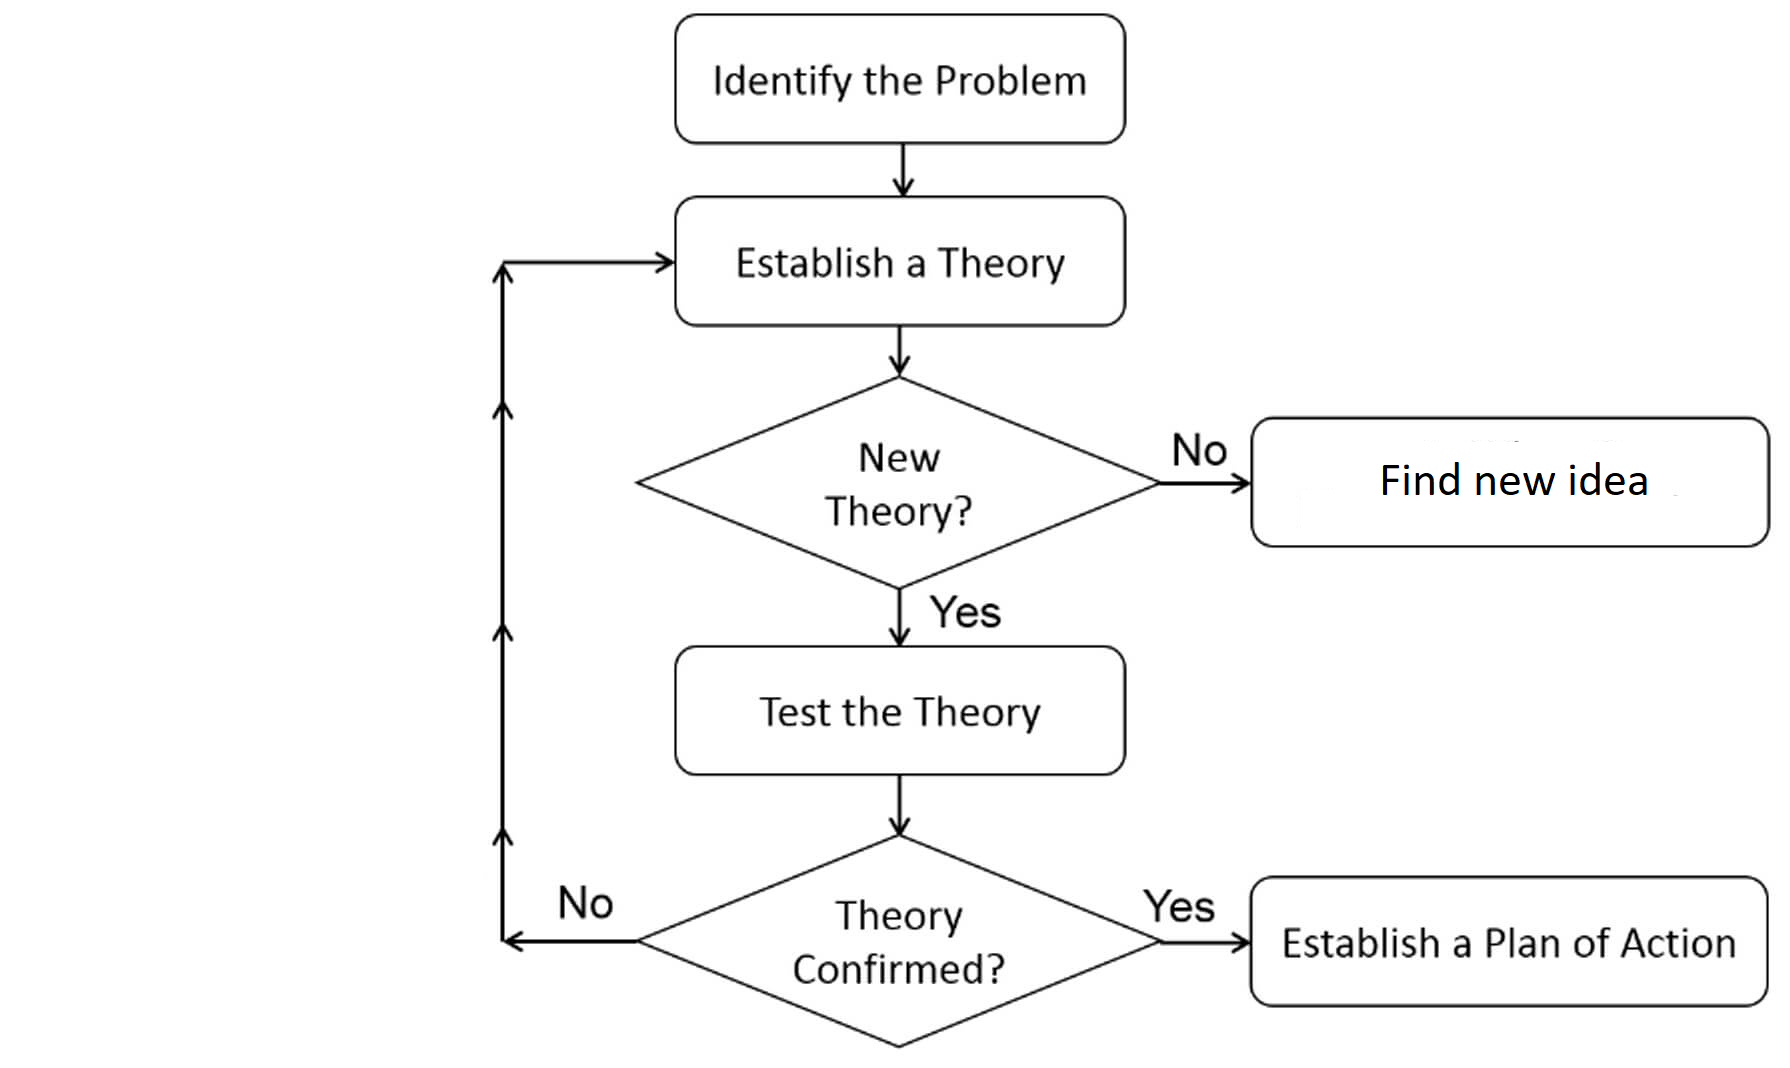arrow: (488, 399, 517, 624), (488, 624, 516, 829), (497, 247, 678, 275), (500, 926, 645, 960), (488, 262, 516, 409), (488, 826, 515, 947), (1149, 929, 1257, 957), (1154, 469, 1248, 497), (882, 772, 915, 840), (886, 584, 915, 646), (884, 325, 913, 379), (891, 140, 915, 197)
decision: (632, 373, 1168, 592), (636, 832, 1166, 1046)
process: (1243, 868, 1775, 1015), (1247, 412, 1775, 554), (670, 188, 1131, 337), (666, 637, 1133, 783), (670, 6, 1134, 151)
text: (791, 894, 1004, 992), (1279, 921, 1740, 962), (706, 60, 1091, 106), (731, 240, 1070, 290), (817, 440, 975, 531), (756, 692, 1041, 735), (1379, 458, 1649, 501), (1134, 881, 1215, 928), (924, 590, 1004, 634), (1166, 428, 1229, 469), (554, 881, 618, 919)
